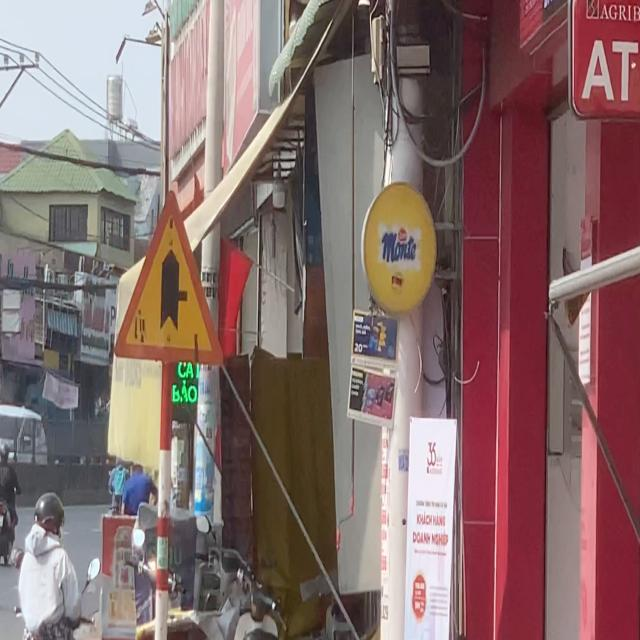Giao voi duong khong uu tien: (112, 189, 225, 369)
